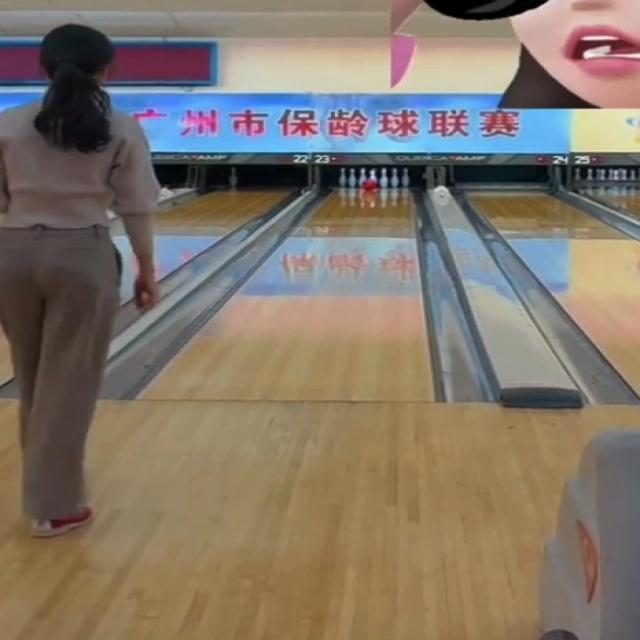alley: (143, 193, 433, 401)
balls: (363, 180, 375, 192)
bottle: (339, 168, 409, 192)
